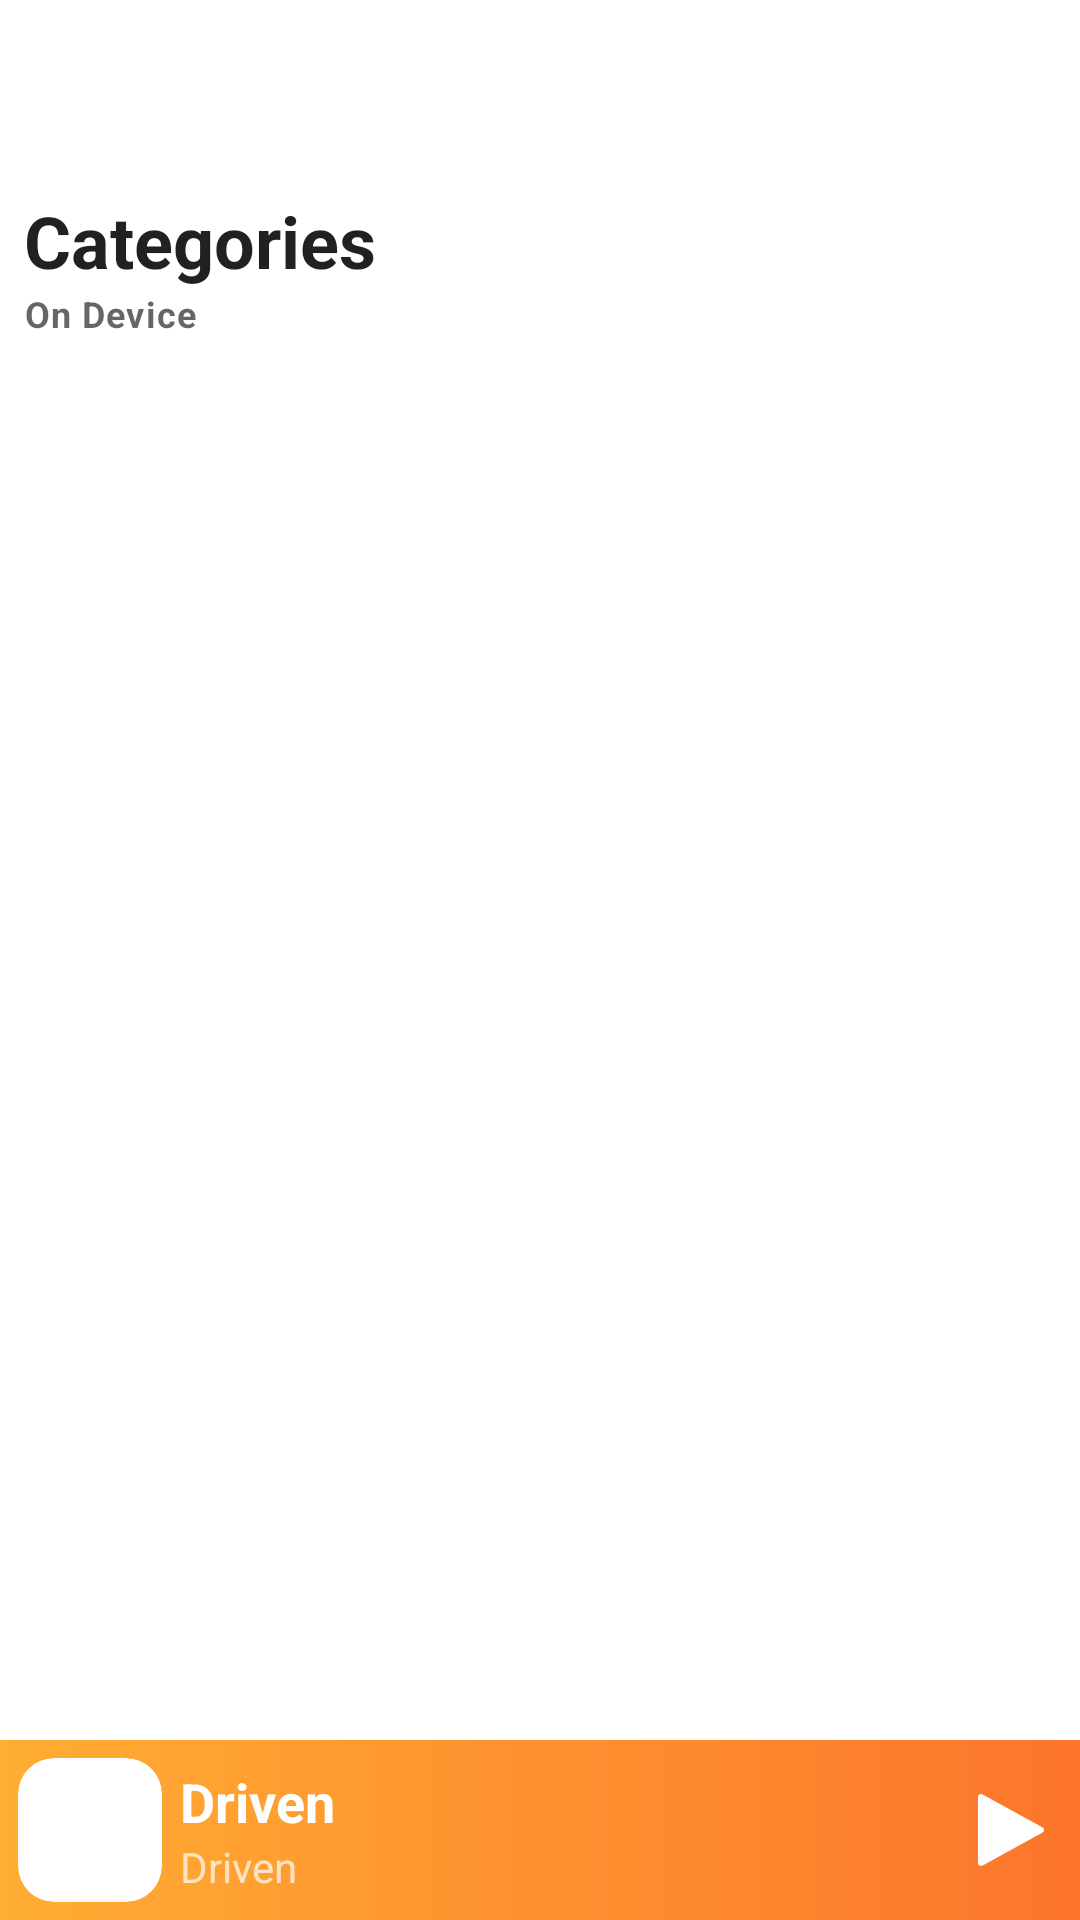

Icon bounding boxes for this 1080px×1920px phone screenshot, format [left=x1, top=y1, right=x2, bottom=y2]:
play: [left=978, top=1794, right=1044, bottom=1866]
